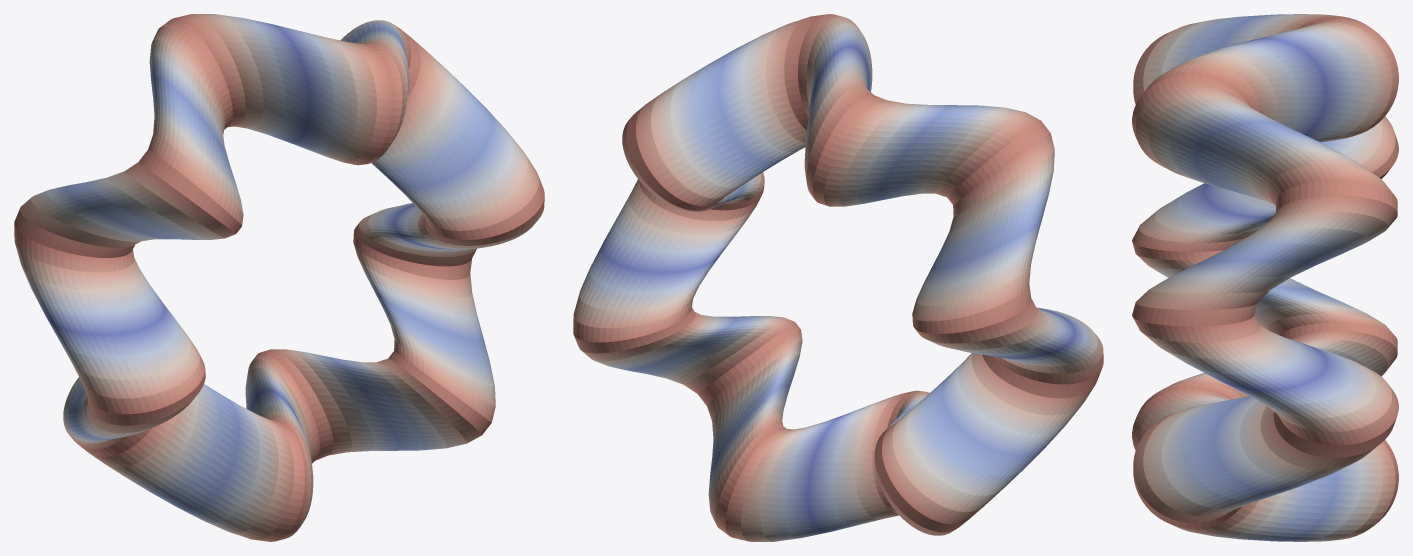
File: step_17.glb
3 renders of one model, left to right at view 1: azimuth 30°, elevation 25°; view 2: azimuth 150°, elevation 25°; view 3: azimuth 270°, elevation 25°, orthographic.
Visible parts, largest first — view 1: world; view 2: world; view 3: world.
Boxes of the visible parts, bbox=[...] form: world: bbox=[14, 14, 544, 541]; world: bbox=[573, 14, 1103, 541]; world: bbox=[1132, 14, 1398, 541].
Size of the model in its own units: 26 by 26 by 13.13.
